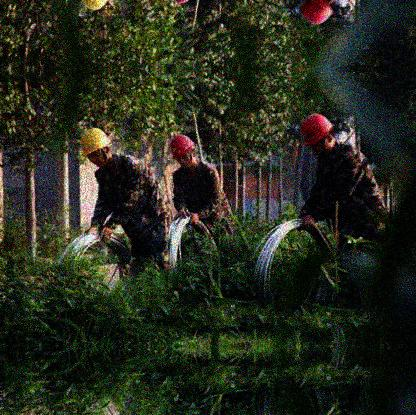helmet: (300, 114, 335, 154), (81, 128, 113, 166), (168, 134, 198, 168)
